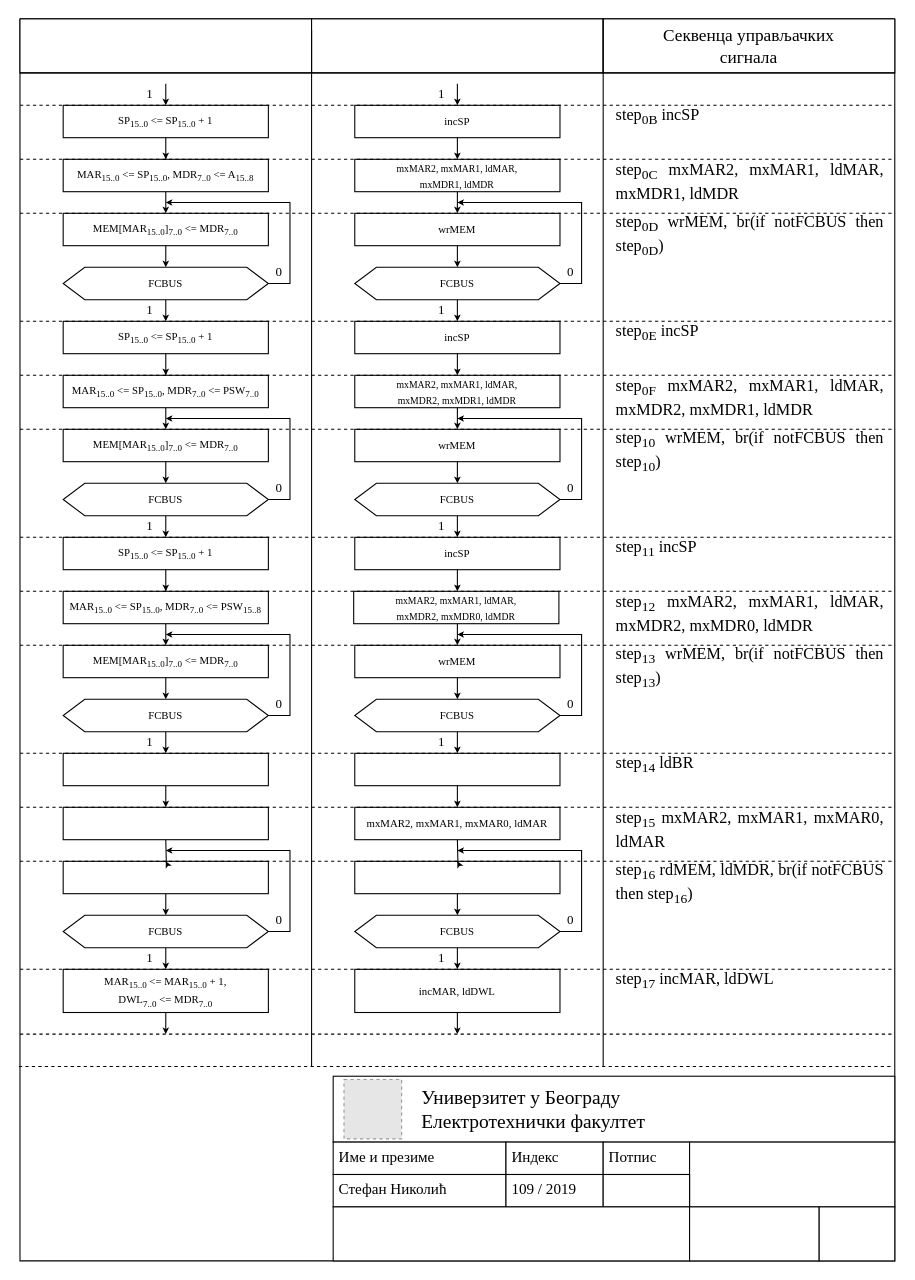
Some shapes in this 915 by 1280 pixel diagram are drawn without their labels. Grey dashed boxes stand in for pictures. Each missing label, with the centre of its shape:
"BR 2..0 <= UEXT 2..0" goes at (165,769).
"ldBR" goes at (457,769).
"MAR 15..0 <= IVTP 15..0 + IVTDSP 15..0" goes at (165,823).
"MDR 7..0 <= MEM[MAR 15..0 ] 7..0" goes at (165,877).
"rdMEM, ldMDR" goes at (457,877).
"Датум 25.09.2021." goes at (753,1233).
"Дијаграм тока микрооперација" goes at (165,45).
"Дијаграм тока управљачких сигнала" goes at (456,45).
"Назив Основи рачунарске технике 2" goes at (511,1233).
"Пројекат Задатак 209" goes at (791,1174).
"Страна 17" goes at (856,1233).
